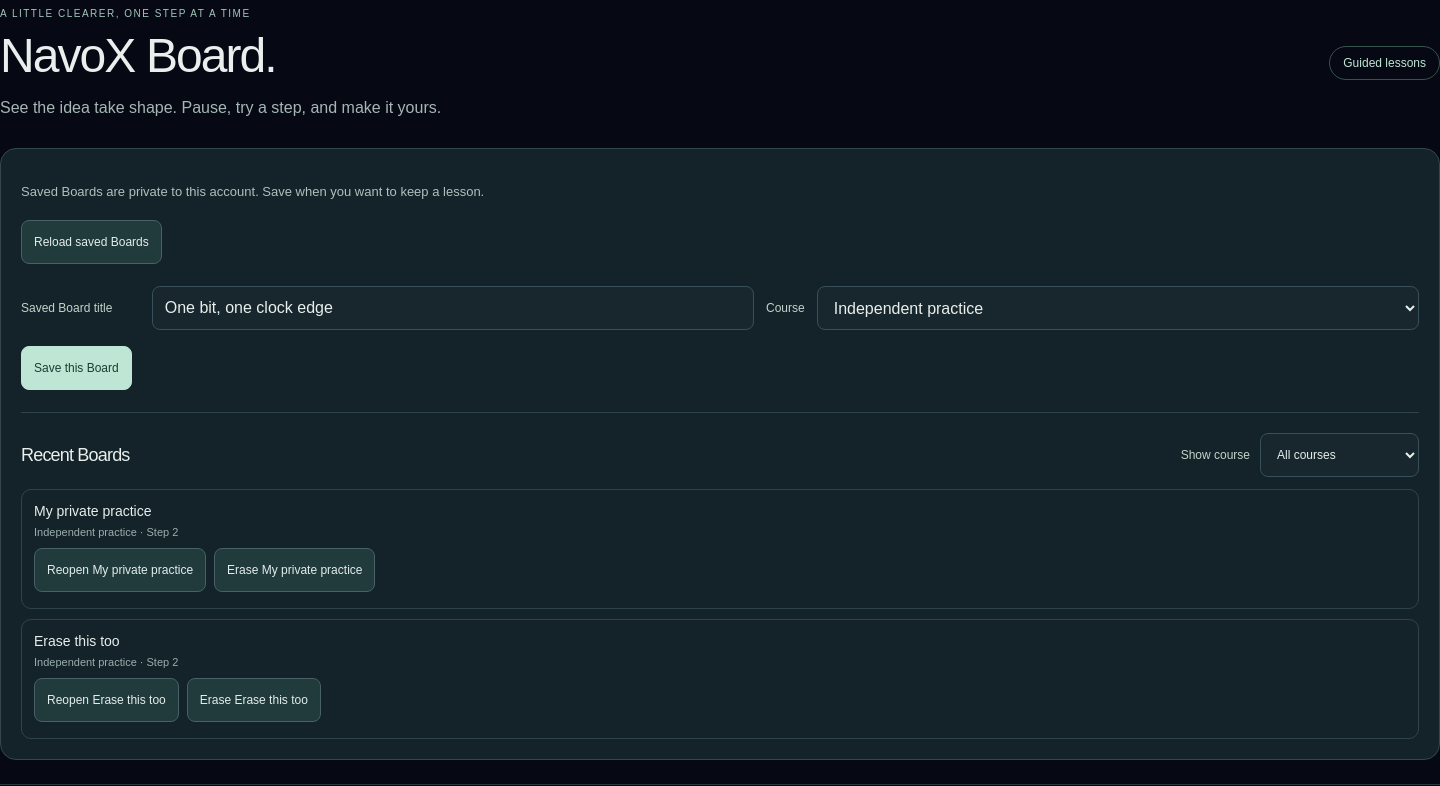
it: saved authored Boards › keeps other erasure handles when feature-off reads fail and blocks stale creates
Click the button "Erase My private practice".
click(295, 570)  # box top-left (214, 548), bottom-right (376, 592)
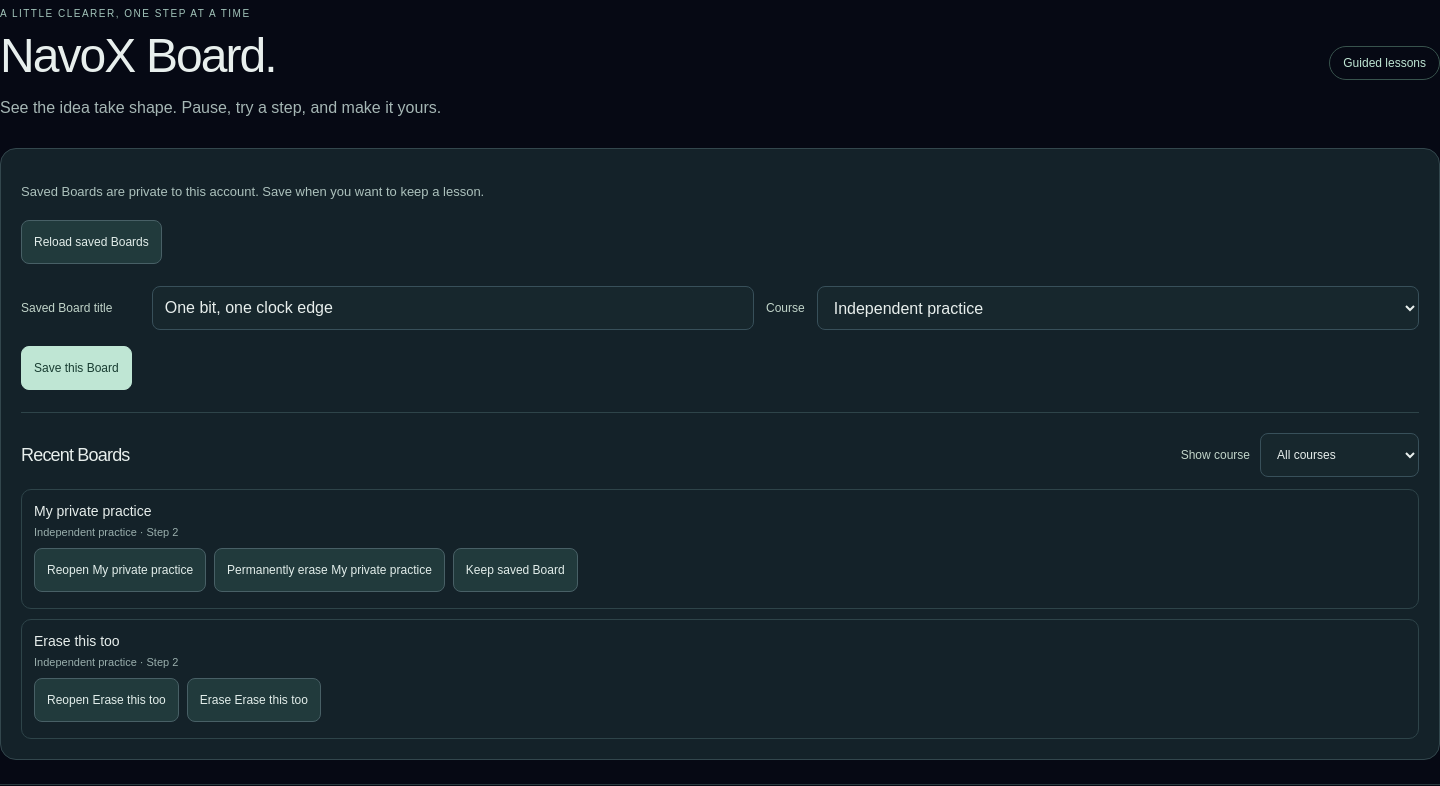
Click the button "Permanently erase My private practice".
click(330, 570)  # box top-left (214, 548), bottom-right (445, 592)
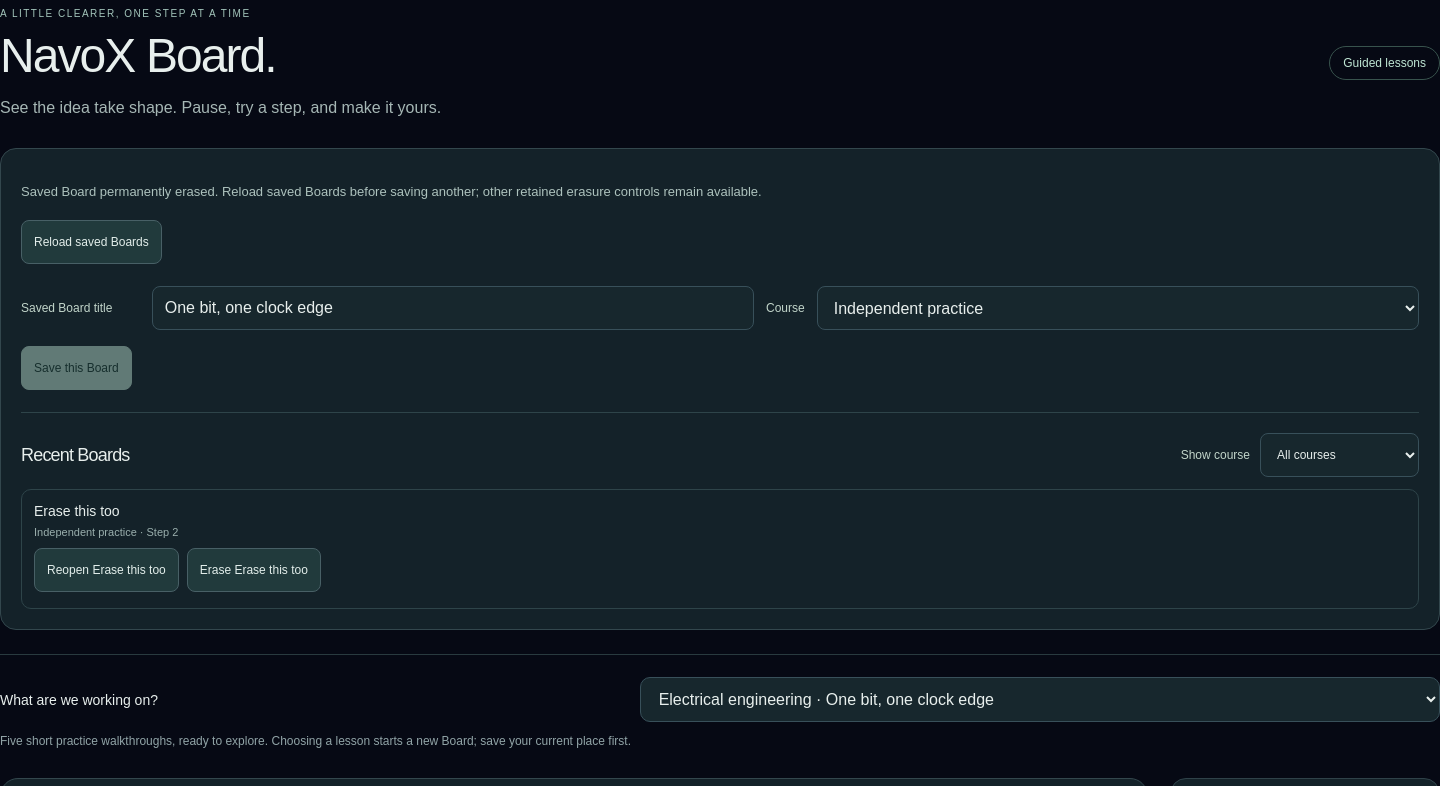
Check: the button "Save this Board" is disabled, box top-left (21, 346), bottom-right (132, 390)
Click the button "Erase Erase this too".
click(254, 570)  # box top-left (187, 548), bottom-right (321, 592)
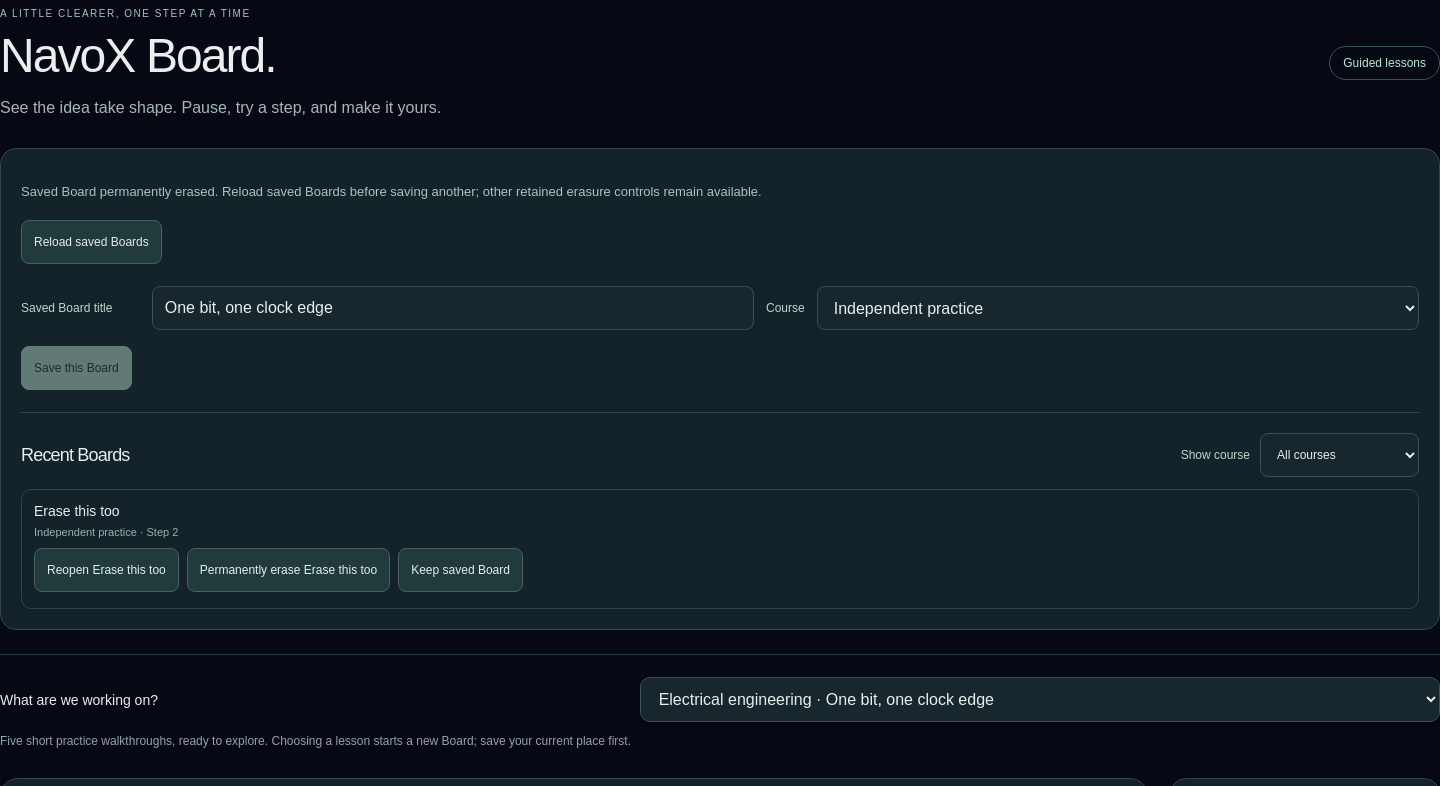
Click the button "Permanently erase Erase this too".
click(288, 570)  # box top-left (187, 548), bottom-right (390, 592)
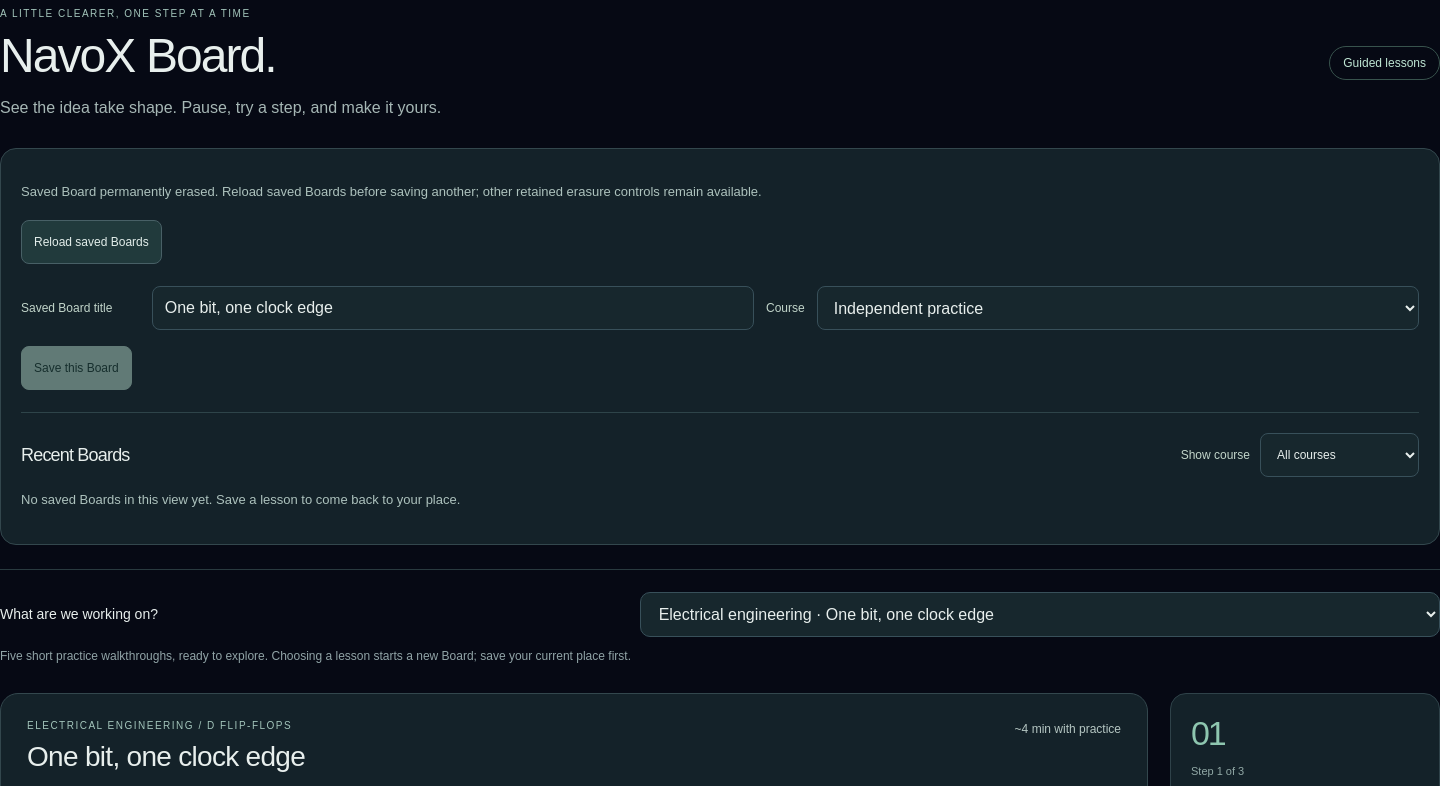
Check: the text "Erase this too" is gone
